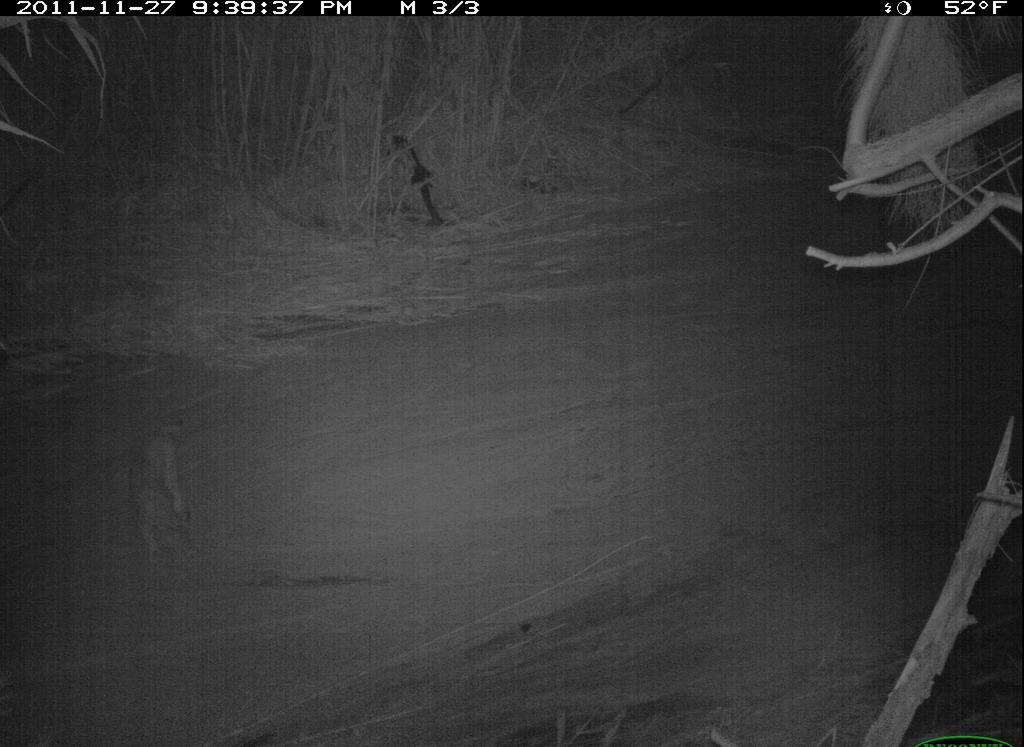bobcat: (116, 382, 208, 578)
